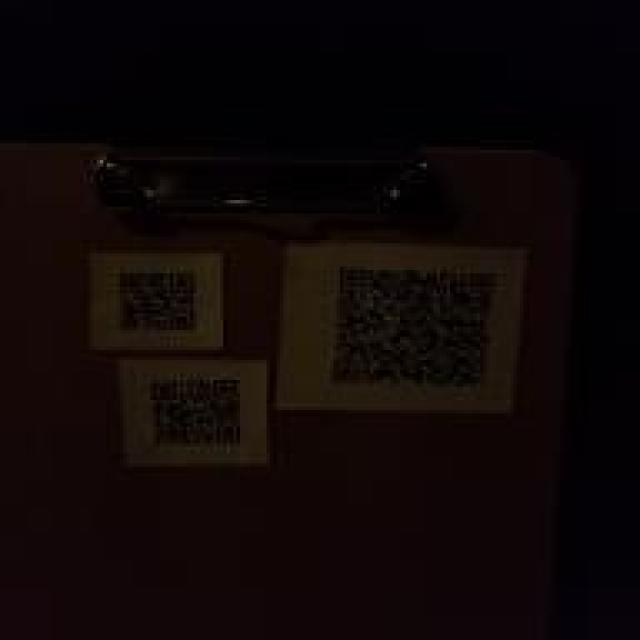qr_code: (331, 266, 499, 386), (151, 378, 241, 450), (117, 269, 197, 332)
